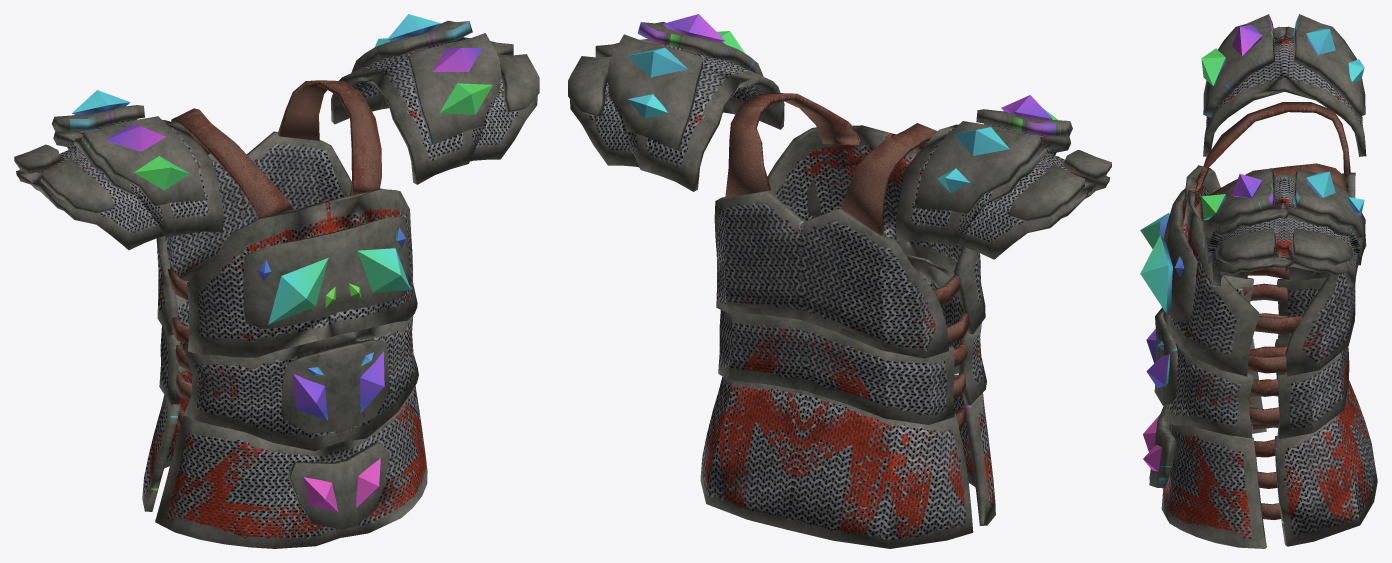
Rendered from ornate_chestplate.glb.
The picture shows the model from 3 angles, left to right: view 1: azimuth 30°, elevation 25°; view 2: azimuth 150°, elevation 25°; view 3: azimuth 270°, elevation 25°; orthographic projection. The views are drawn at different scales.
Visible parts, largest first — view 1: ornate_chestplate_export; view 2: ornate_chestplate_export; view 3: ornate_chestplate_export.
Part boxes in pixels (box(x1,y1,x2,y2)): ornate_chestplate_export: box(14, 14, 539, 548); ornate_chestplate_export: box(568, 14, 1111, 548); ornate_chestplate_export: box(1140, 14, 1377, 548).
Bounding box in the file's own units: 0.5524 × 0.4594 × 0.2488.
1 material, 1 textured.
